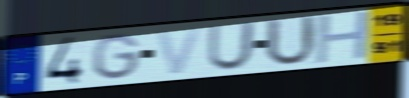4: (42, 35, 87, 87)
G: (91, 32, 143, 82)
H: (313, 9, 373, 66)
U: (263, 14, 319, 68), (205, 20, 257, 72)
V: (153, 24, 206, 77)
